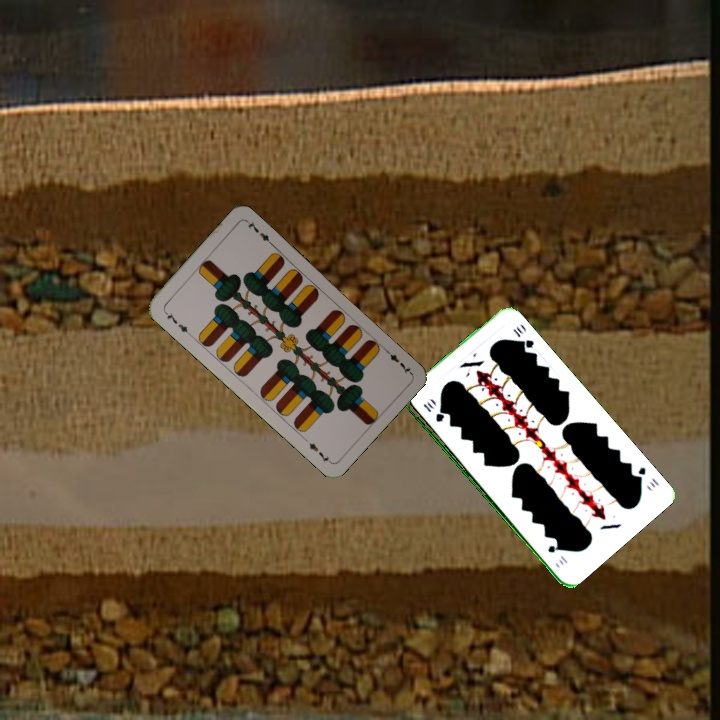E7: (381, 344, 413, 376), (160, 307, 193, 338)
G10: (630, 463, 661, 490), (419, 398, 445, 425)
